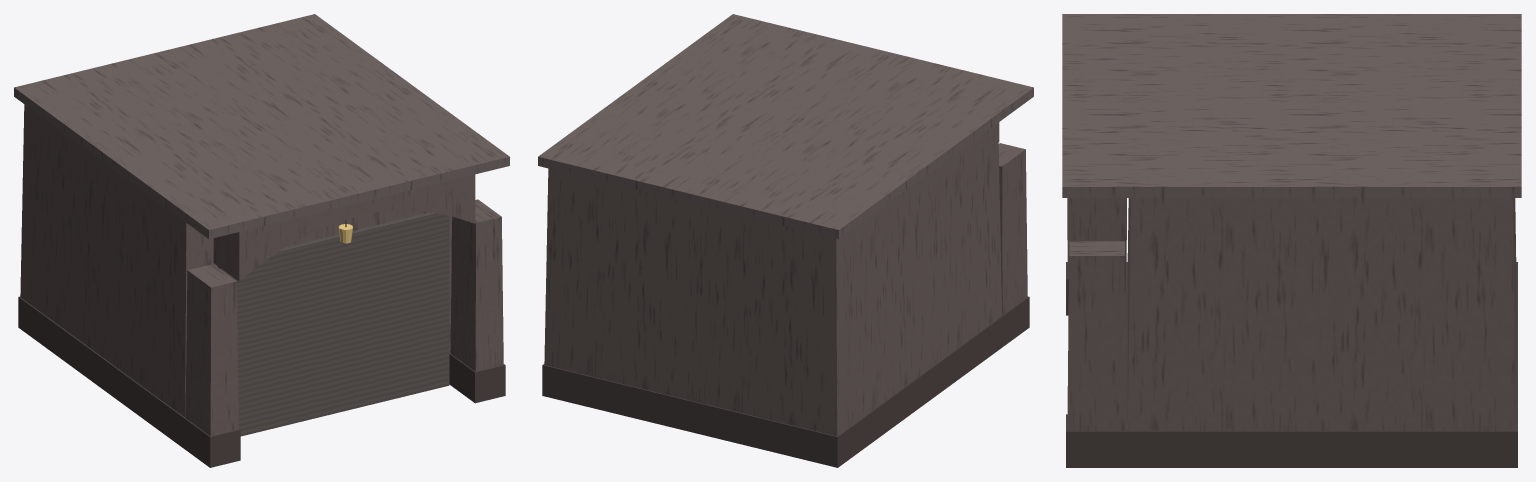
Rendered from SM_Souq_Stall_W4D45H30.fbx.
The picture shows the model from 3 angles, left to right: view 1: azimuth 30°, elevation 25°; view 2: azimuth 150°, elevation 25°; view 3: azimuth 270°, elevation 25°; orthographic projection. The views are drawn at different scales.
Visible parts, largest first — view 1: SM_Souq_Stall_W4D45H30; view 2: SM_Souq_Stall_W4D45H30; view 3: SM_Souq_Stall_W4D45H30.
Boxes of the visible parts, left/top/right/bottom form: SM_Souq_Stall_W4D45H30: left=14, top=14, right=509, bottom=467; SM_Souq_Stall_W4D45H30: left=538, top=14, right=1033, bottom=467; SM_Souq_Stall_W4D45H30: left=1062, top=14, right=1521, bottom=467.
Bounding box in the file's own units: 410 × 312 × 460.
Materials: 6 (6 with a texture image).
